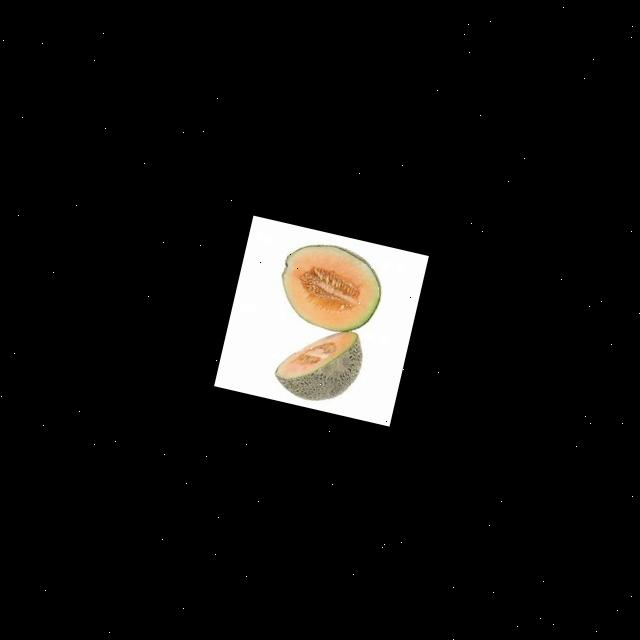Hami Melon: (272, 235, 388, 338), (268, 315, 367, 409)
